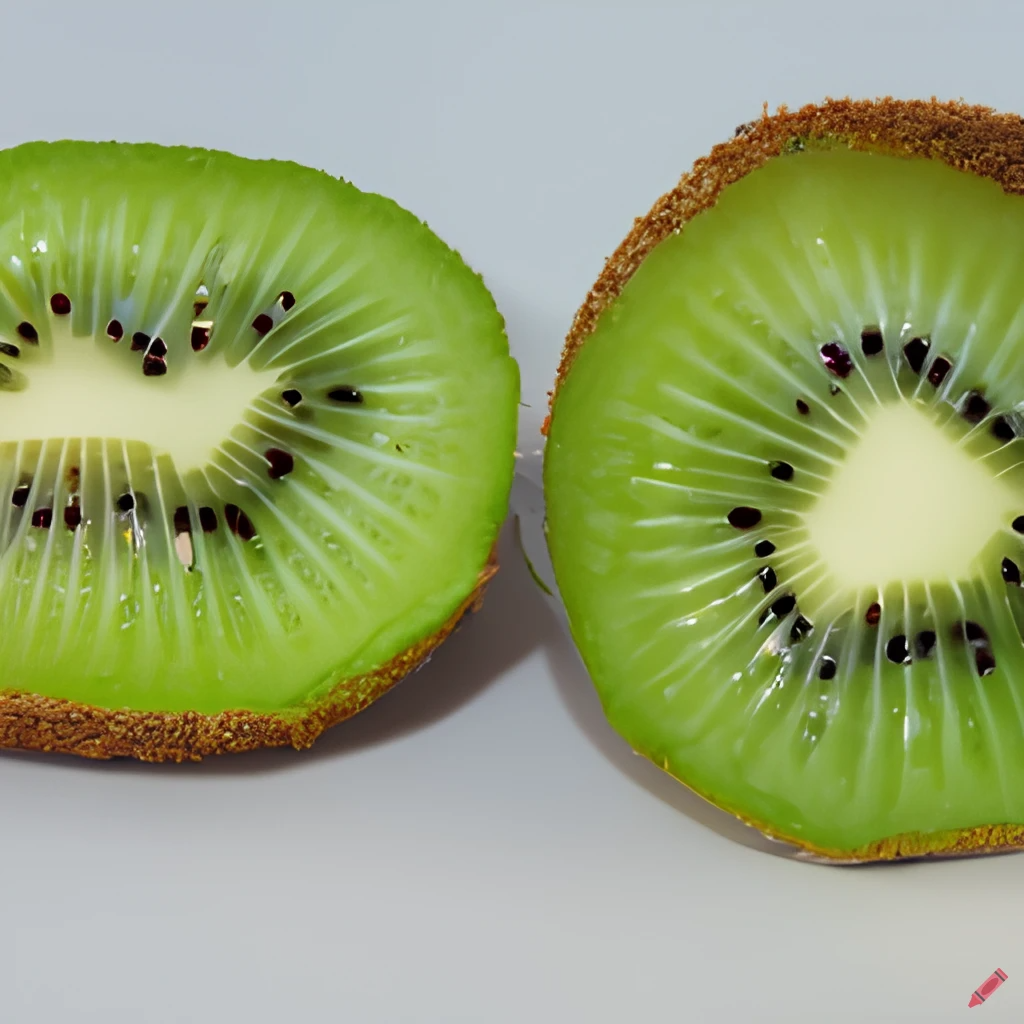Kiwi: (0, 142, 526, 800)
